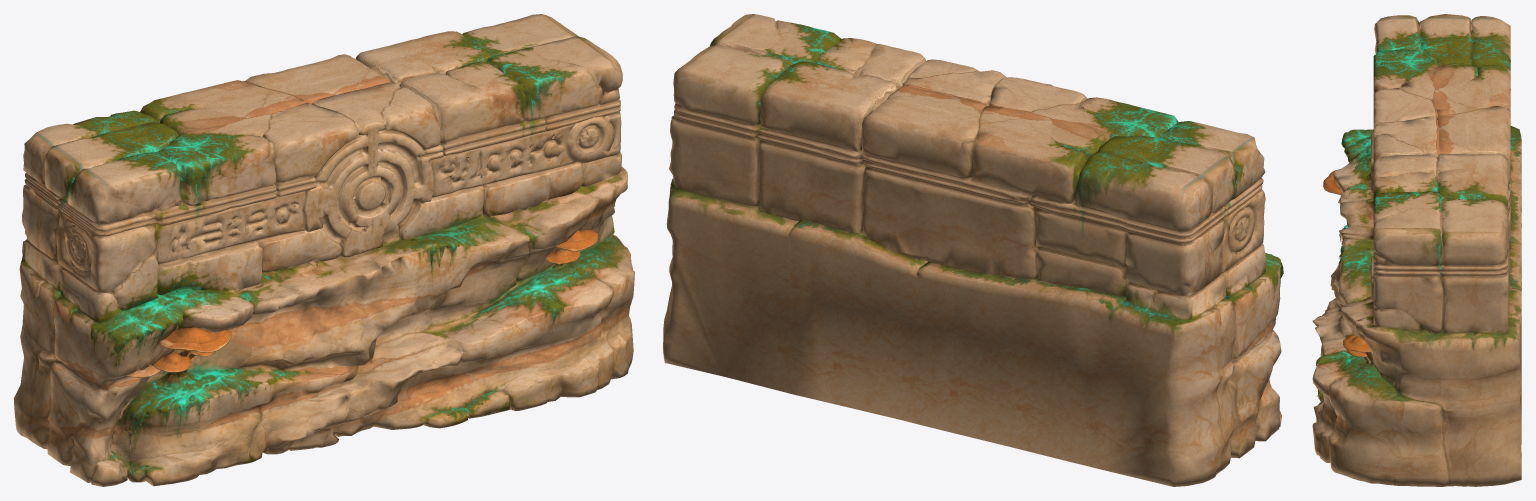
File: citadel_cliff.glb
3 views of the same model, side by side, from view 1: azimuth 30°, elevation 25°; view 2: azimuth 150°, elevation 25°; view 3: azimuth 270°, elevation 25° (orthographic). The views are drawn at different scales.
Bounding box in the file's own units: 0.9619 × 0.4854 × 0.3701.
1 material, 1 textured.
